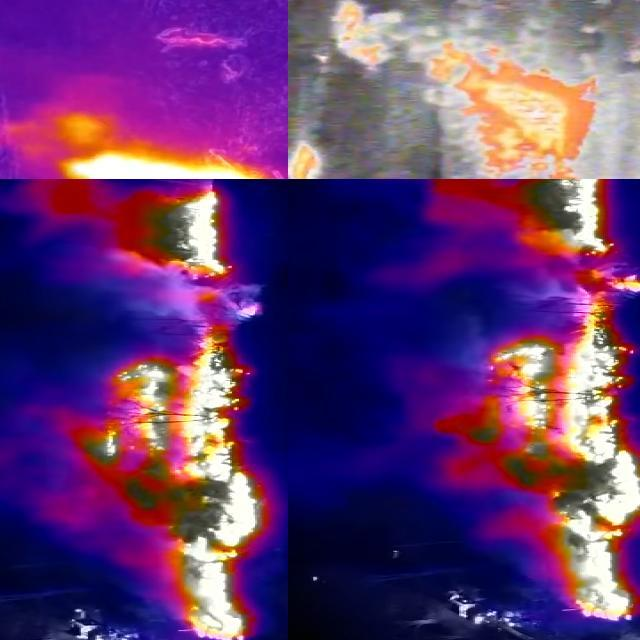fire: (436, 298, 640, 630), (73, 325, 265, 640), (329, 1, 602, 176), (106, 180, 263, 318), (420, 180, 612, 286), (59, 149, 271, 180), (289, 141, 326, 180)
